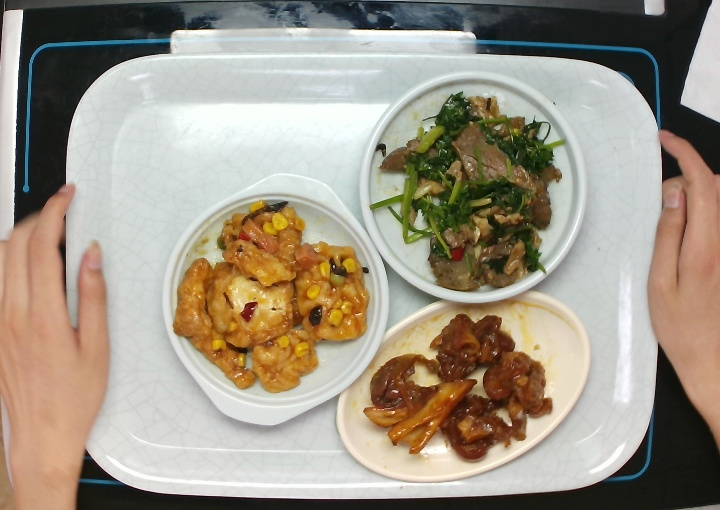JYsf-Shuang_Er_Pan: (158, 168, 393, 430)
JYsf-Tuo_Yuan_Wan: (332, 286, 595, 485)
JYsf-Xiao_Yuan_Pan: (356, 67, 591, 307)
